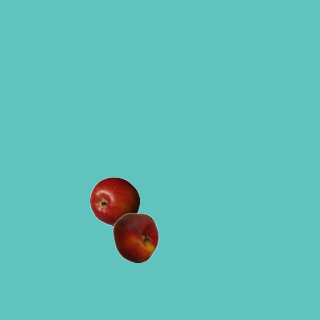Apple Braeburn: (89, 176, 139, 226)
Nectarine Flat: (110, 212, 160, 262)
